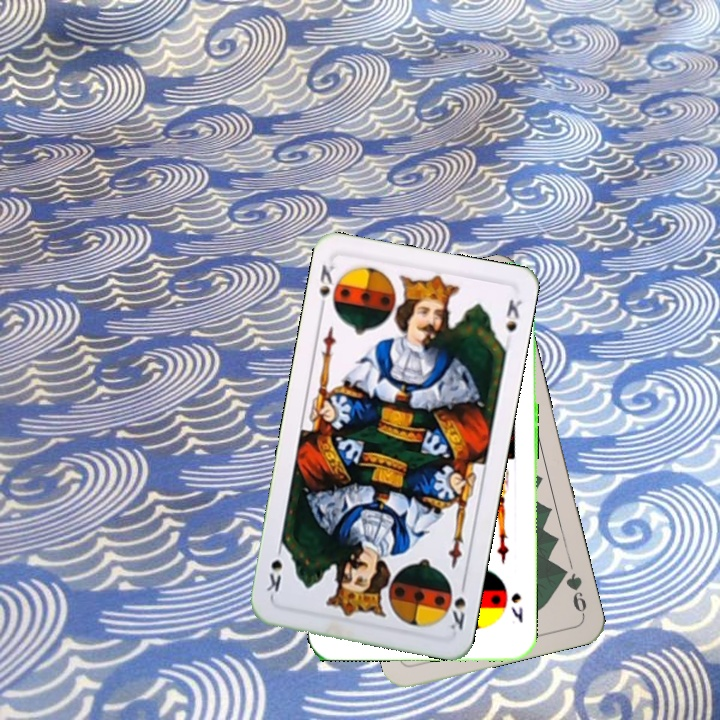G9: (555, 563, 589, 618)
SK: (446, 576, 469, 633), (315, 260, 337, 315), (507, 589, 525, 625)
